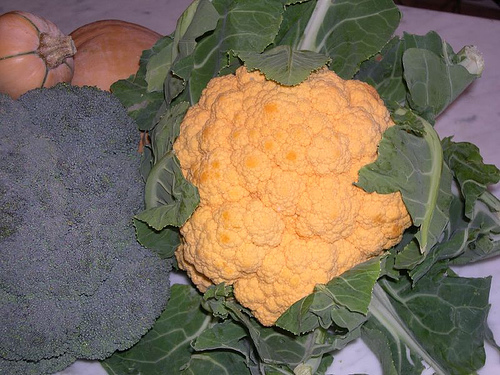cauliflower: (171, 65, 411, 329), (0, 83, 172, 374)
